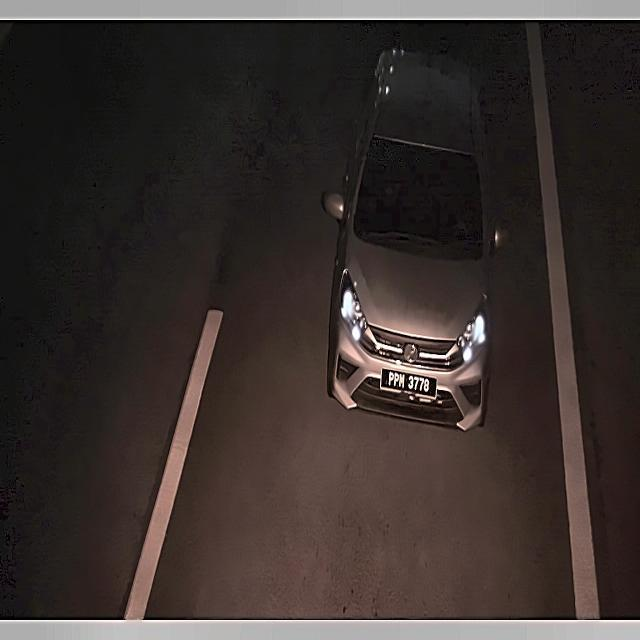car: (383, 360, 436, 403)
